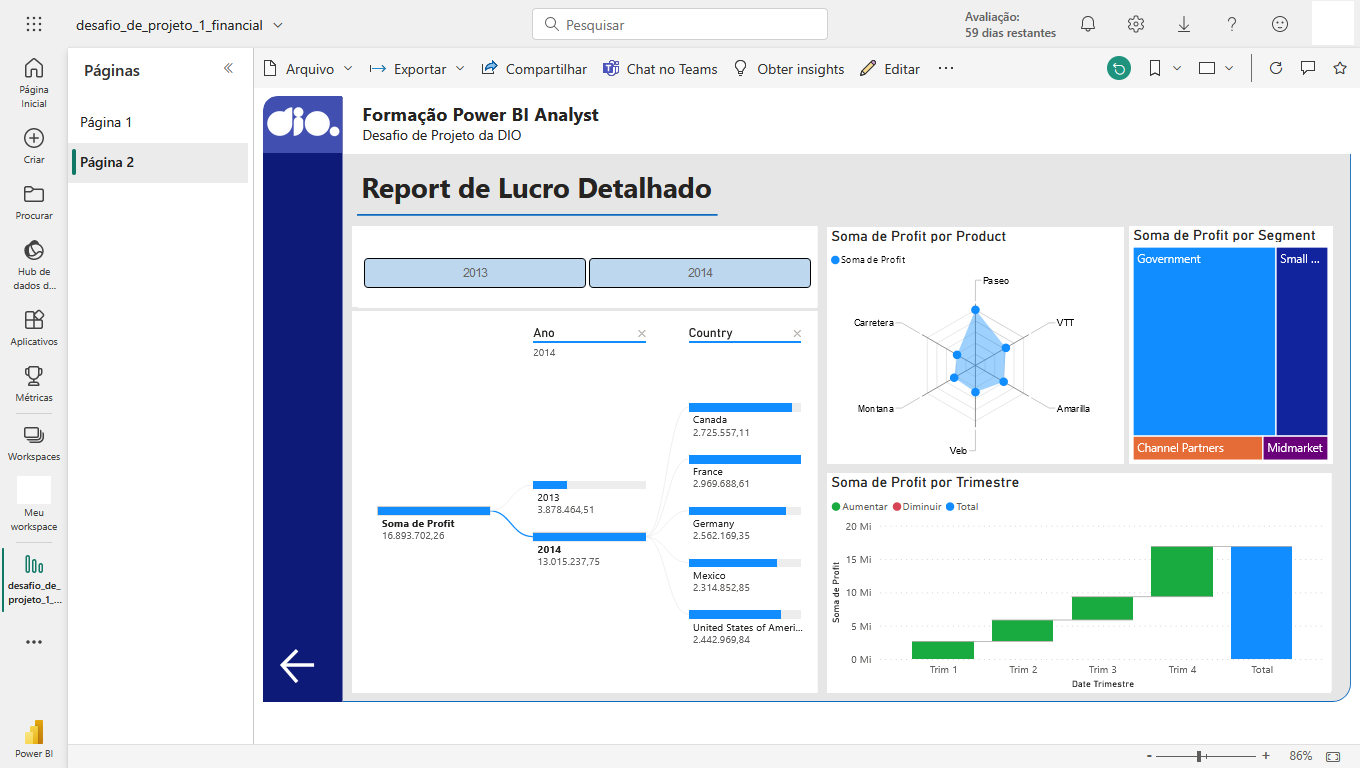

The dashboard page shown, as its layout file describes it:
{"tool":"powerbi","page":{"name":"Página 2","canvas":[1280,720],"ordinal":1},"visuals":[{"type":"shape","box":[10,10,1259.1,700.1],"z":0},{"type":"shape","box":[119.3,131.2,417.4,29.7],"z":0,"group":"g1"},{"type":"textbox","box":[119.3,86.2,448.8,61.1],"z":1000,"group":"g1"},{"type":"shape","box":[10.4,10.4,92.3,700.1],"z":1000},{"type":"shape","box":[10,9.7,91.8,66.1],"z":2000},{"type":"shape","box":[102.4,10,1167,66.4],"z":3000},{"type":"image","title":"img_dio","box":[10,10,94.3,60],"z":4000},{"type":"textbox","box":[120,10,620,62.9],"z":5000},{"type":"shape","box":[113.4,257.7,539.2,442.5],"z":8000},{"type":"shape","box":[662.9,445.7,584.3,252.9],"z":9000},{"type":"shape","box":[662.9,161.4,344.3,274.3],"z":10000},{"type":"actionButton","box":[26.7,644.9,76.7,50.1],"z":12500},{"type":"group","id":"g1","title":"Title report","box":[119.3,86.2,448.8,74.7],"z":16000},{"type":"shape","box":[1012.9,160,235.7,275.7],"z":16001},{"type":"shape","box":[113.4,159.6,539.2,93.8],"z":16002},{"type":"treemap","fields":{"Values":["Sum(financials.Profit)"],"Group":["financials.Segment"]},"box":[1012.9,160,235.7,275.7],"z":16003},{"type":"waterfallChart","fields":{"Y":["Sum(financials.Profit)"],"Category":["financials.Date.Variation.Hierarquia de datas.Trimestre"]},"box":[662.9,445.7,582.9,254.3],"z":16004},{"type":"decompositionTreeVisual","fields":{"Analyze":["Sum(financials.Profit)"],"ExplainBy":["financials.Date.Variation.Hierarquia de datas.Ano","financials.Country"]},"box":[113,258,527,441],"z":16005},{"type":"RadarChart1446119667547","fields":{"Y":["Sum(financials.Profit)"],"Category":["financials.Product"]},"box":[662.9,161.4,344.3,274.3],"z":16006},{"type":"ChicletSlicer1448559807354","fields":{"Category":["financials.Date.Variation.Hierarquia de datas.Ano"]},"box":[120,190,531.4,64.3],"z":16007}]}

Visuals, with their boxes on the page's 1280x720 design canvas (x1, y1, x2, y2). These are canvas units, not pixel positions in the 1360x768 screenshot, which may show the page scaled, cropped or inside an application window:
shape: x1=10 y1=10 x2=1269 y2=710
shape: x1=119 y1=131 x2=537 y2=161
textbox: x1=119 y1=86 x2=568 y2=147
shape: x1=10 y1=10 x2=103 y2=710
shape: x1=10 y1=10 x2=102 y2=76
shape: x1=102 y1=10 x2=1269 y2=76
"img_dio" image: x1=10 y1=10 x2=104 y2=70
textbox: x1=120 y1=10 x2=740 y2=73
shape: x1=113 y1=258 x2=653 y2=700
shape: x1=663 y1=446 x2=1247 y2=699
shape: x1=663 y1=161 x2=1007 y2=436
actionButton: x1=27 y1=645 x2=103 y2=695
"Title report" group: x1=119 y1=86 x2=568 y2=161
shape: x1=1013 y1=160 x2=1249 y2=436
shape: x1=113 y1=160 x2=653 y2=253
treemap - Sum(financials.Profit) x financials.Segment: x1=1013 y1=160 x2=1249 y2=436
waterfallChart - Sum(financials.Profit) x financials.Date.Variation.Hierarquia de datas.Trimestre: x1=663 y1=446 x2=1246 y2=700
decompositionTreeVisual - Sum(financials.Profit) x financials.Date.Variation.Hierarquia de datas.Ano: x1=113 y1=258 x2=640 y2=699
RadarChart1446119667547 - Sum(financials.Profit) x financials.Product: x1=663 y1=161 x2=1007 y2=436
ChicletSlicer1448559807354 - financials.Date.Variation.Hierarquia de datas.Ano: x1=120 y1=190 x2=651 y2=254
